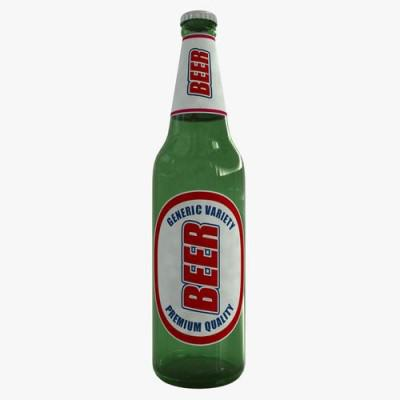beer: (150, 9, 252, 393)
